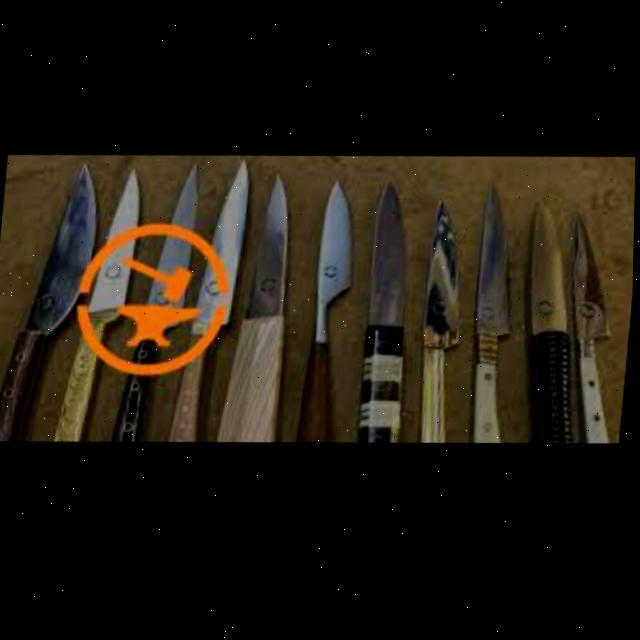knife: (0, 157, 104, 447), (112, 161, 203, 448), (54, 164, 145, 447), (170, 157, 254, 448), (218, 172, 301, 449), (514, 202, 600, 455), (556, 217, 636, 455), (358, 182, 426, 451), (465, 185, 530, 452), (300, 182, 362, 449), (415, 202, 473, 451)
